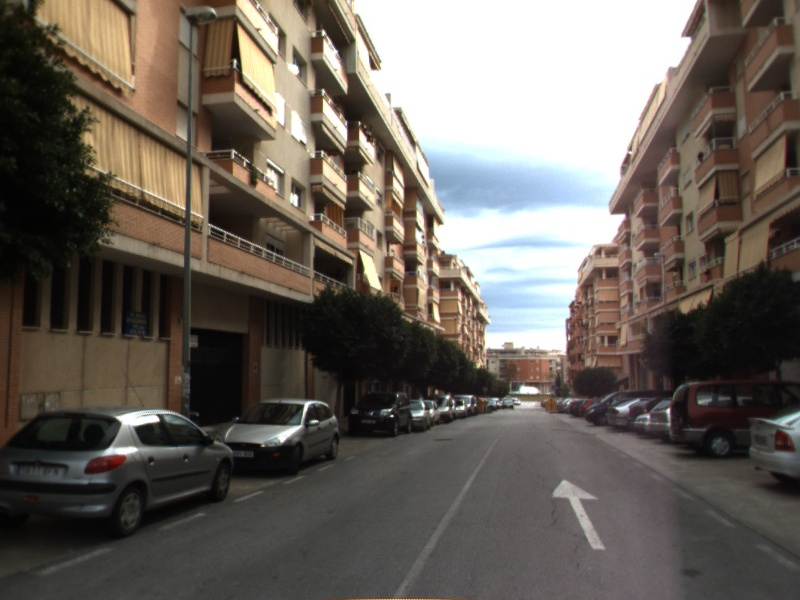STRAIGHT: (547, 477, 607, 552)
